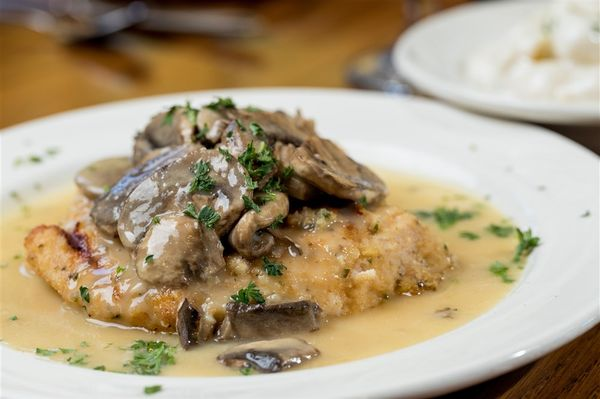curry: (185, 159, 218, 197)
